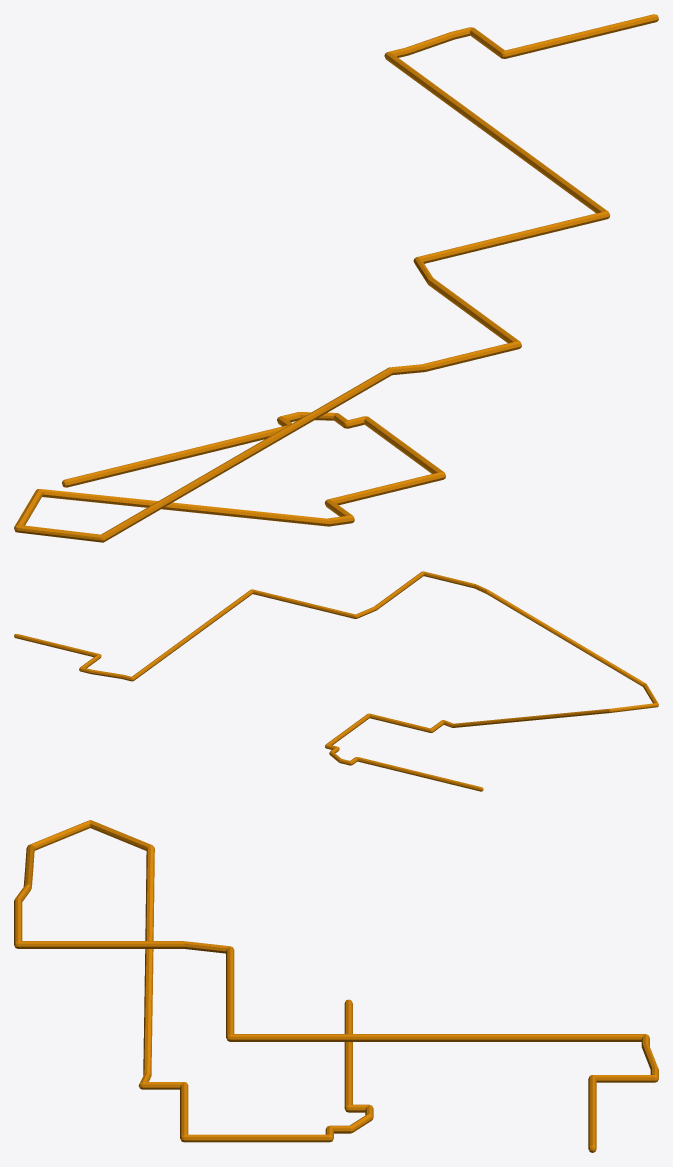
3 views of the same model, one above another, from view 1: azimuth 30°, elevation 25°; view 2: azimuth 150°, elevation 25°; view 3: azimuth 270°, elevation 25° (orthographic). The views are drawn at different scales.
Size of the model in its own units: 2408 by 520 by 1553.
